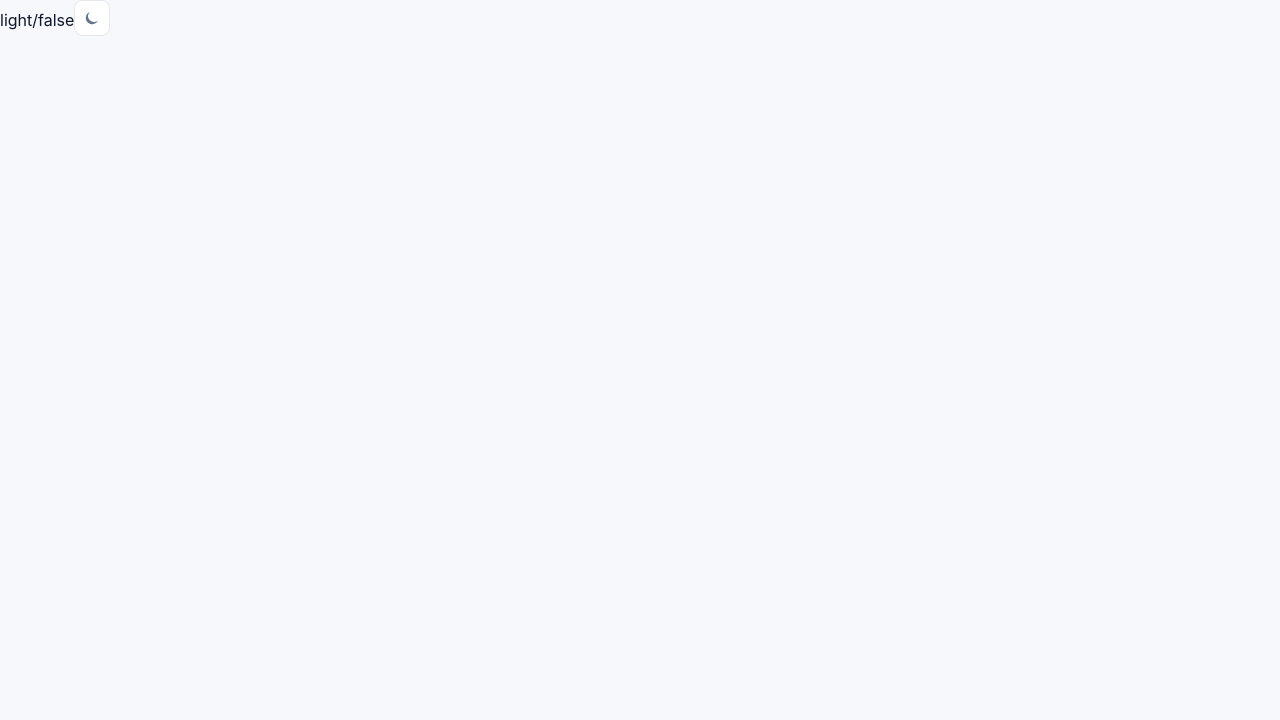
Scenario: ThemeToggle › starts light, toggles to dark, applies the class and saves the choice
Expected: the text with test id "theme" reads "light/false", left=0, top=10, right=74, bottom=30
Step 1. Click the button named "switch to dark mode" → (92, 18), box left=74, top=0, right=110, bottom=36
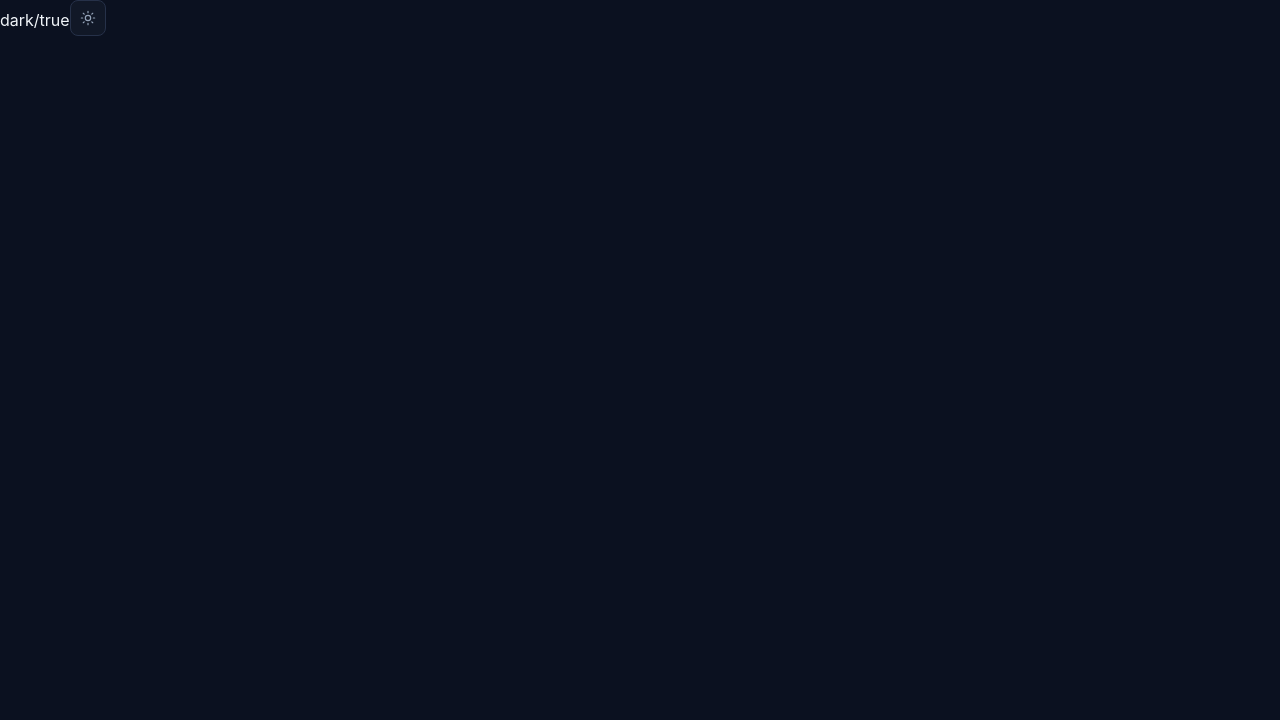
Result: the text with test id "theme" reads "dark/true" at left=0, top=10, right=70, bottom=30
Result: the button named "switch to light mode" is shown at left=70, top=0, right=106, bottom=36
